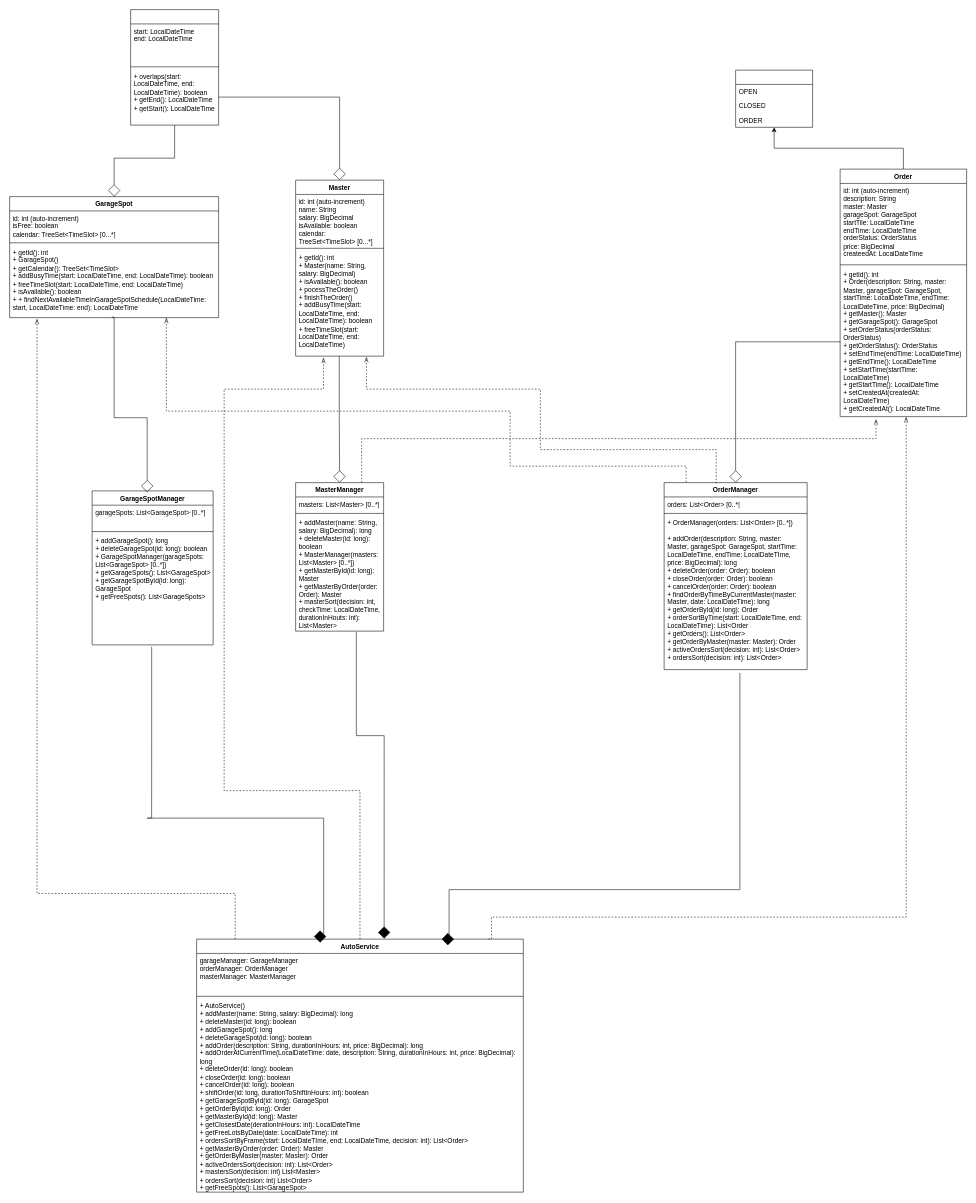
This 976x1203 diagram has some shape labels left out. The box of each missing label's shape, as (x1, y1, x2, y2) in pixels:
<<enumeration>> OrderStatus: (735, 70, 813, 127)
TimeSlot: (130, 9, 219, 125)
